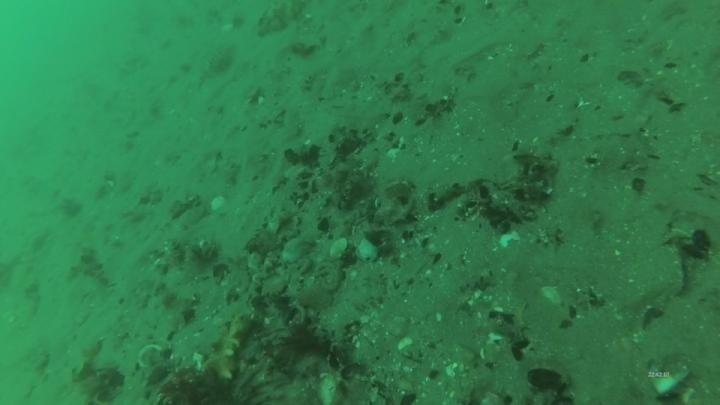holothurian: (202, 308, 257, 386)
